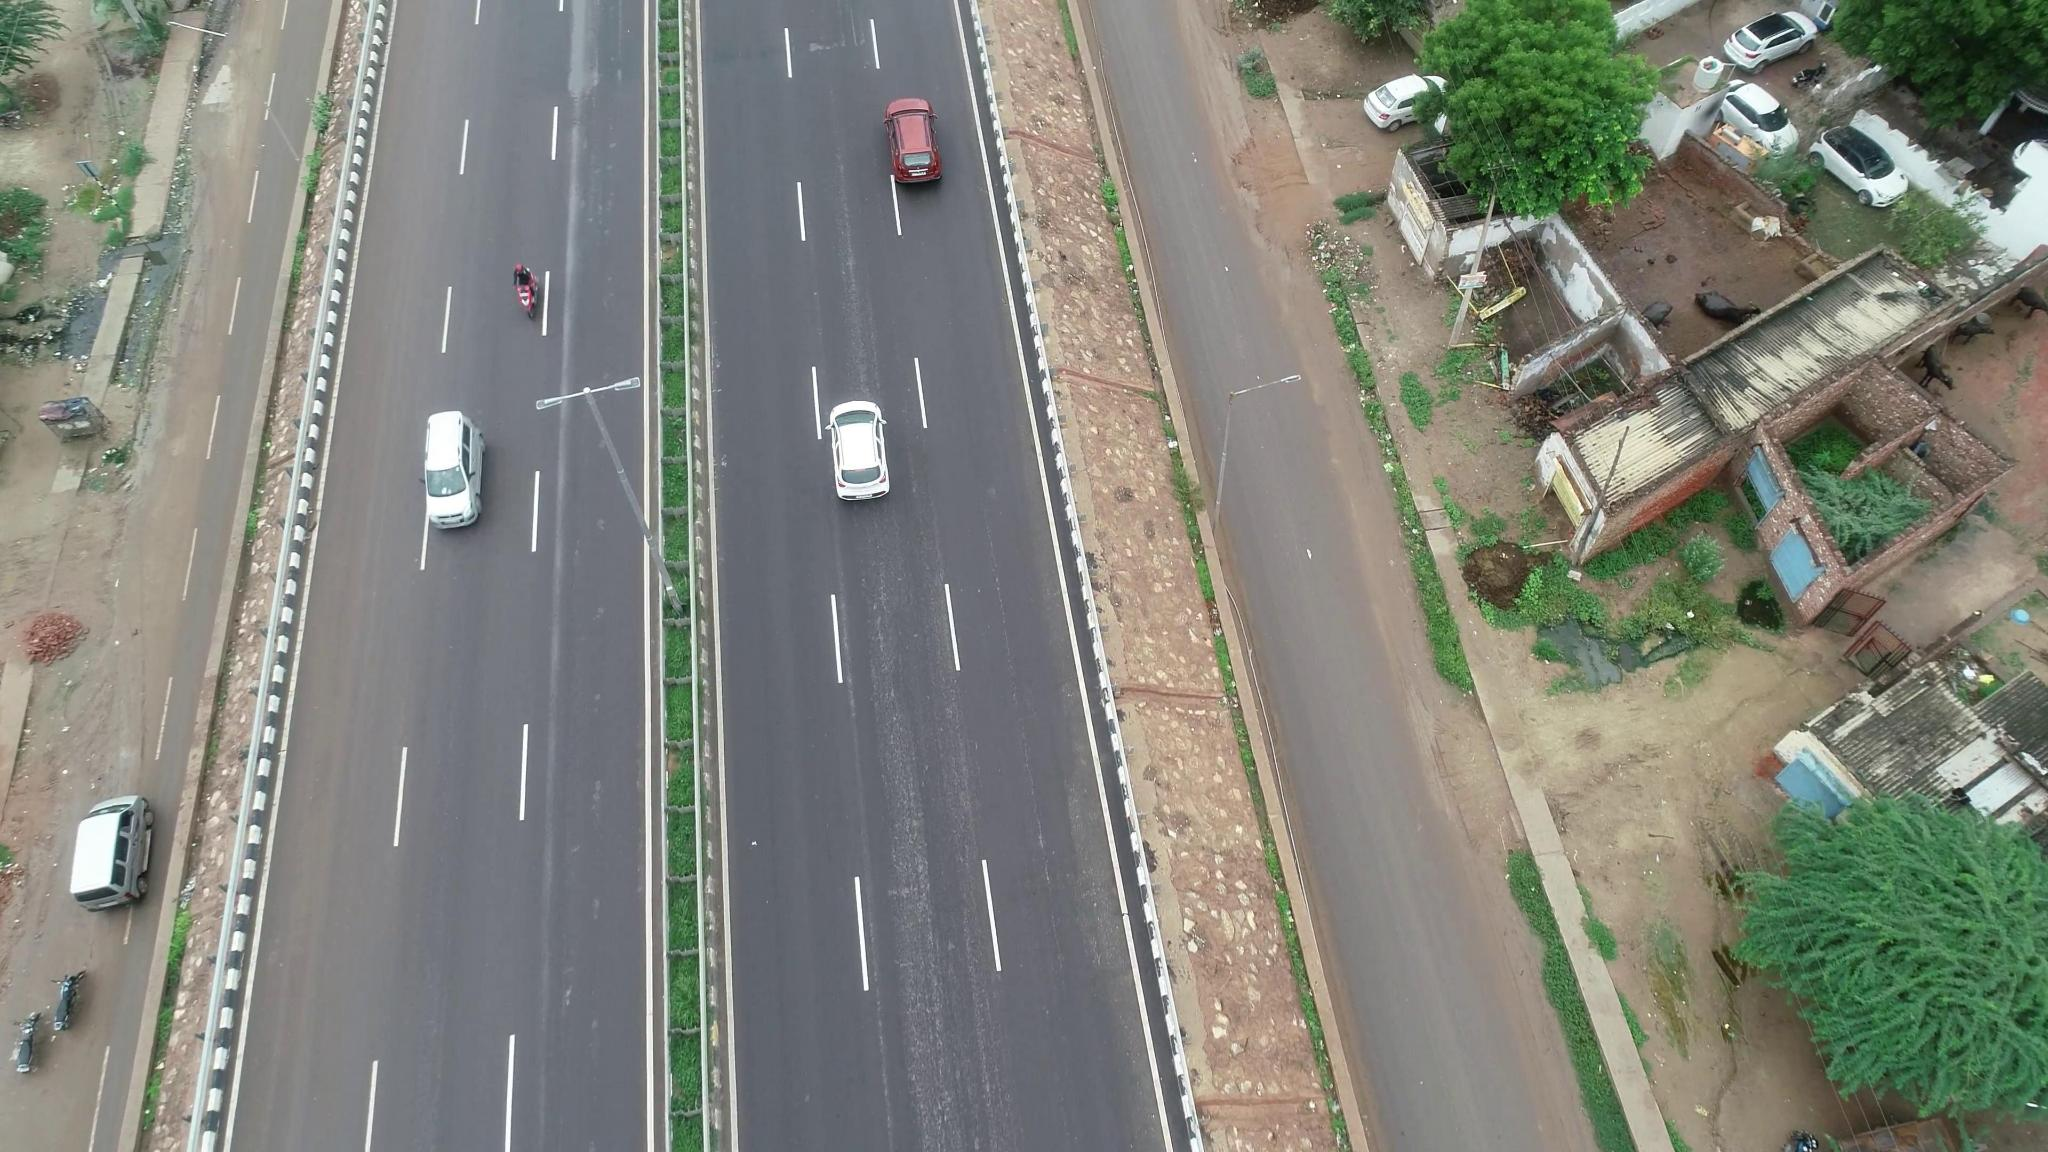Muddy_road: (51, 437, 204, 765), (151, 129, 253, 404)
